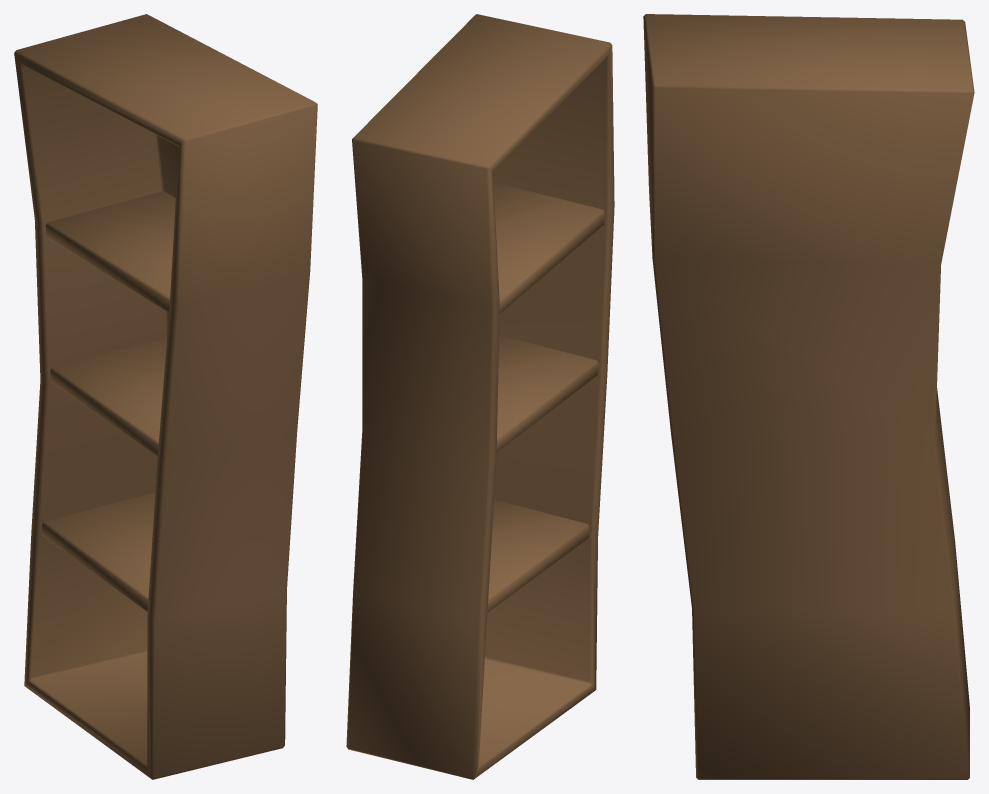
Rendered from test-bookshelf.glb.
3 renders of one model, left to right at view 1: azimuth 30°, elevation 25°; view 2: azimuth 150°, elevation 25°; view 3: azimuth 270°, elevation 25°, orthographic. The views are drawn at different scales.
Parts seen in each view (by area): view 1: Cube, Cube.001; view 2: Cube, Cube.001; view 3: Cube.
Part boxes in pixels (box(x1,y1,x2,y2)): Cube: box(14, 14, 317, 779); Cube.001: box(41, 191, 175, 611); Cube: box(346, 14, 614, 779); Cube.001: box(487, 182, 604, 612); Cube: box(643, 14, 974, 779).
Bounding box in the file's own units: 0.7446 × 2.93 × 1.25.
Materials: 1 (1 with a texture image).
